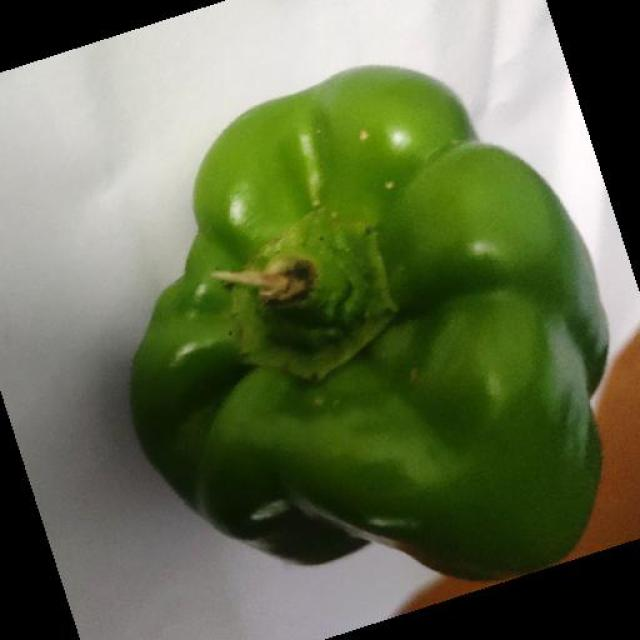Fresh_Capsicum: (153, 88, 635, 557)
